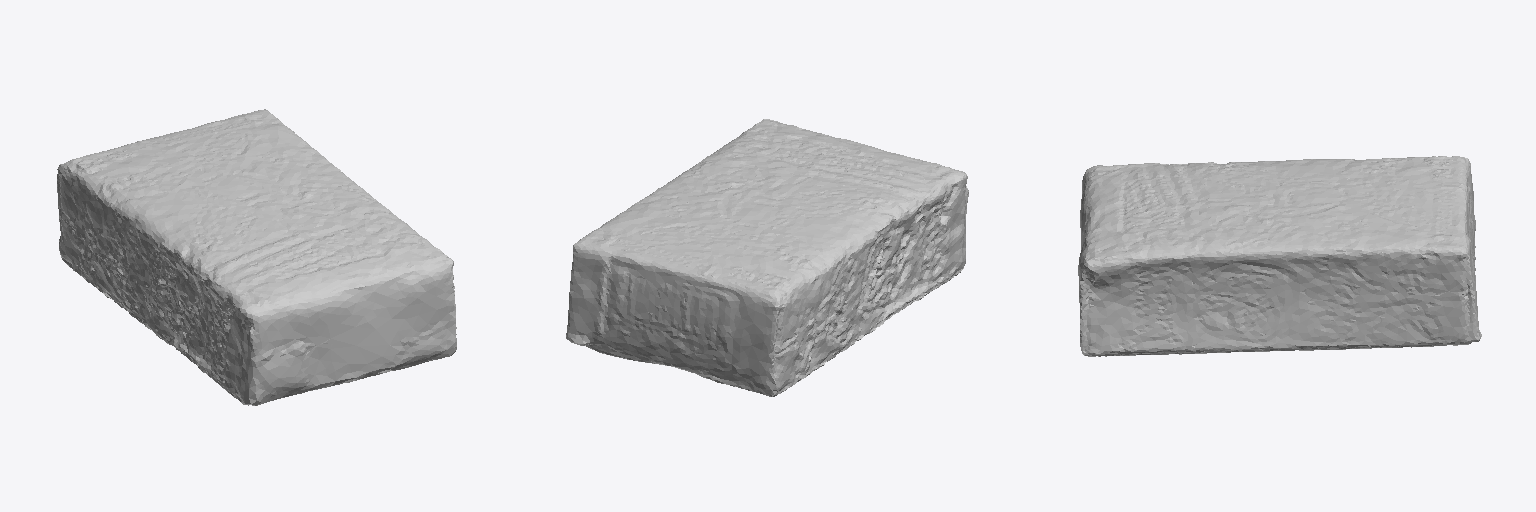
The model's file is box_pink_M.obj.
3 views of the same model, side by side, from view 1: azimuth 30°, elevation 25°; view 2: azimuth 150°, elevation 25°; view 3: azimuth 270°, elevation 25° (orthographic).
Visible parts, largest first — view 1: 3DModel.001; view 2: 3DModel.001; view 3: 3DModel.001.
Boxes of the visible parts, <box> form: 3DModel.001: <box>57,109,456,405</box>; 3DModel.001: <box>566,119,968,396</box>; 3DModel.001: <box>1078,156,1481,356</box>.
Bounding box in the file's own units: 0.0699 × 0.037 × 0.115.